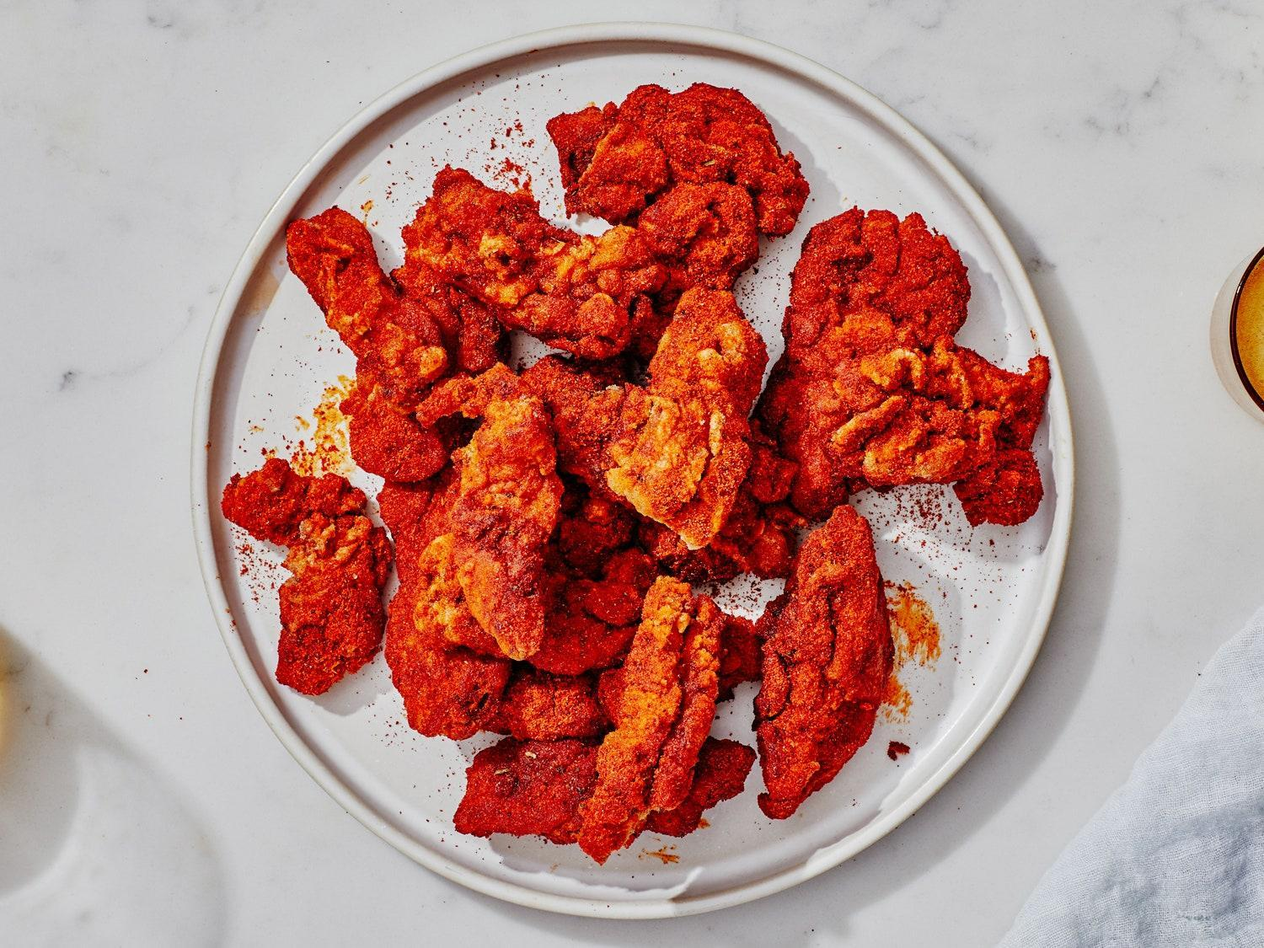chicken: (239, 83, 1034, 842)
